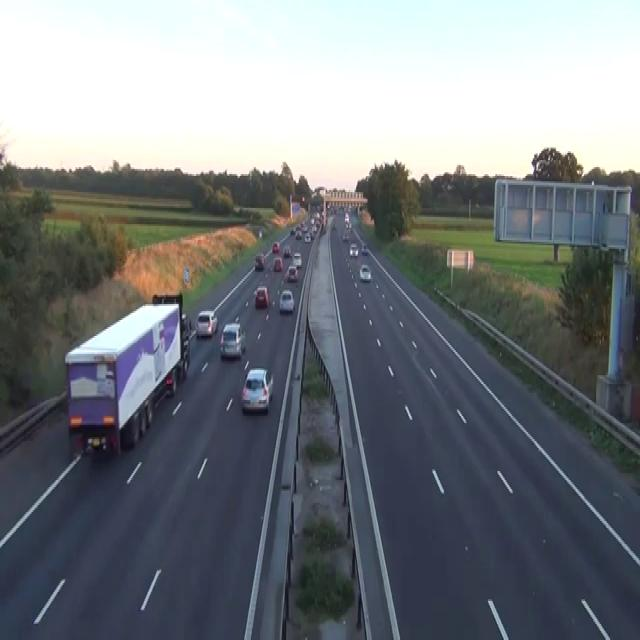Car: (241, 367, 273, 412), (219, 322, 245, 359), (153, 368, 176, 407), (195, 309, 218, 338), (254, 284, 269, 308), (279, 290, 294, 313), (165, 368, 176, 396), (181, 313, 191, 339), (359, 263, 371, 281), (285, 265, 298, 281), (254, 252, 264, 270), (210, 311, 218, 333), (292, 250, 302, 266), (349, 242, 358, 256), (273, 256, 282, 270), (282, 244, 291, 258), (361, 242, 368, 254), (272, 240, 279, 252), (342, 231, 349, 242), (304, 231, 311, 242), (295, 228, 302, 238), (345, 220, 351, 230), (301, 221, 307, 231), (344, 212, 349, 222), (321, 224, 326, 233), (290, 226, 295, 234), (258, 230, 262, 238), (332, 222, 336, 230)
Truck: (64, 291, 190, 457), (152, 292, 190, 394)
